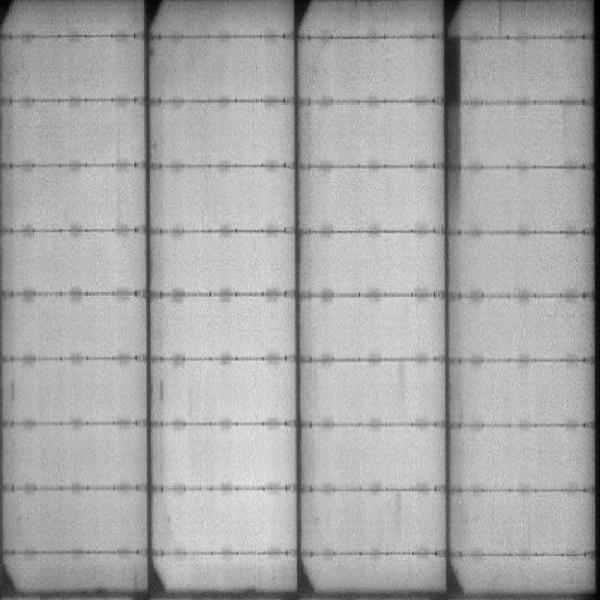black_border: (440, 34, 466, 234)
